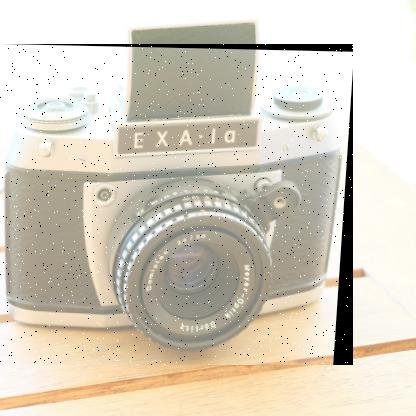Camera: (1, 45, 355, 367)
